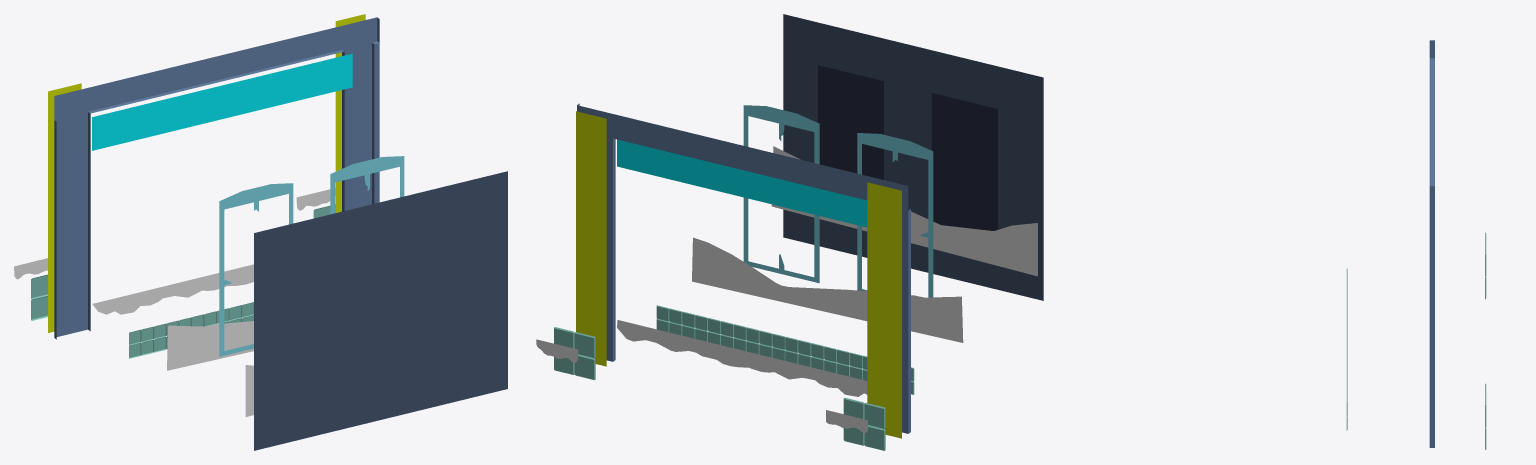
File: frozen_building_bottom.fbx
3 renders of one model, left to right at view 1: azimuth 30°, elevation 25°; view 2: azimuth 150°, elevation 25°; view 3: azimuth 270°, elevation 25°, orthographic. The views are drawn at different scales.
Parts seen in each view (by area): view 1: frozen_building_bottom; view 2: frozen_building_bottom; view 3: frozen_building_bottom.
Part boxes in pixels (left/top/right/bottom): frozen_building_bottom: left=14, top=14, right=507, bottom=450; frozen_building_bottom: left=536, top=14, right=1043, bottom=450; frozen_building_bottom: left=1346, top=40, right=1486, bottom=449.
Size of the model in its own units: 612 by 436 by 672.
